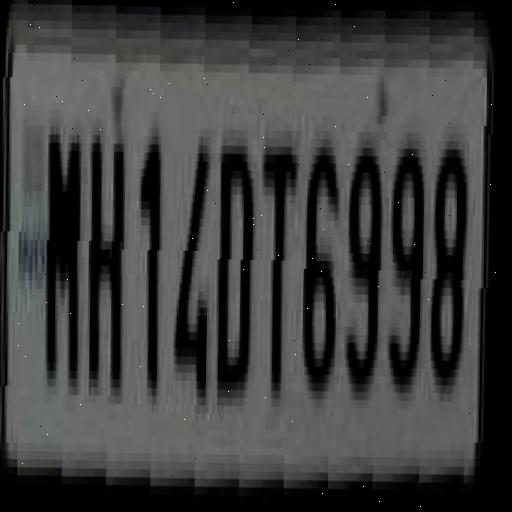number plate: (0, 0, 493, 512)
